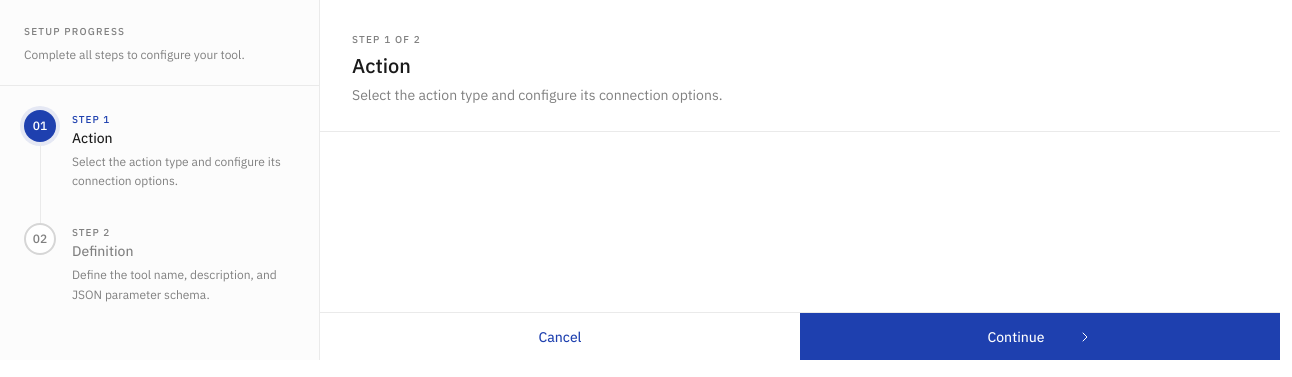
Test: Deployment and tool flows › create tool validates missing name before submit
Click the button "Continue". click: coordinates (1040, 336)
box: top-left (800, 313), bottom-right (1280, 360)
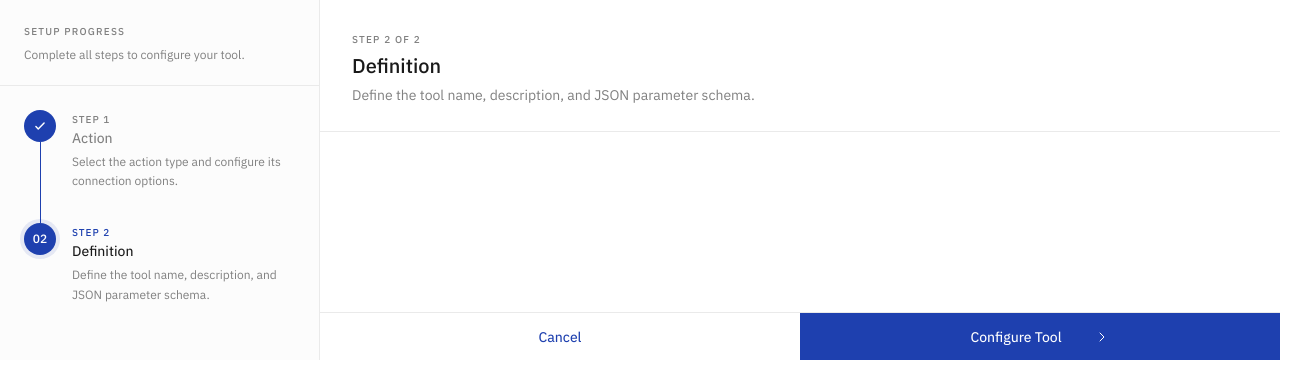
Click the button "Configure Tool". click: coordinates (1040, 336)
box: top-left (800, 313), bottom-right (1280, 360)
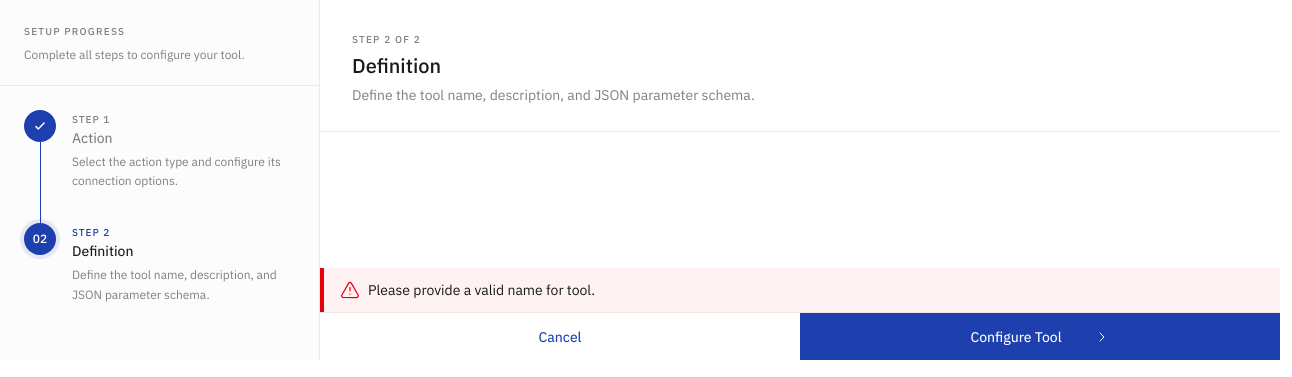
Expected: the text "Please provide a valid name for tool." is shown, top-left (368, 280), bottom-right (595, 300)
